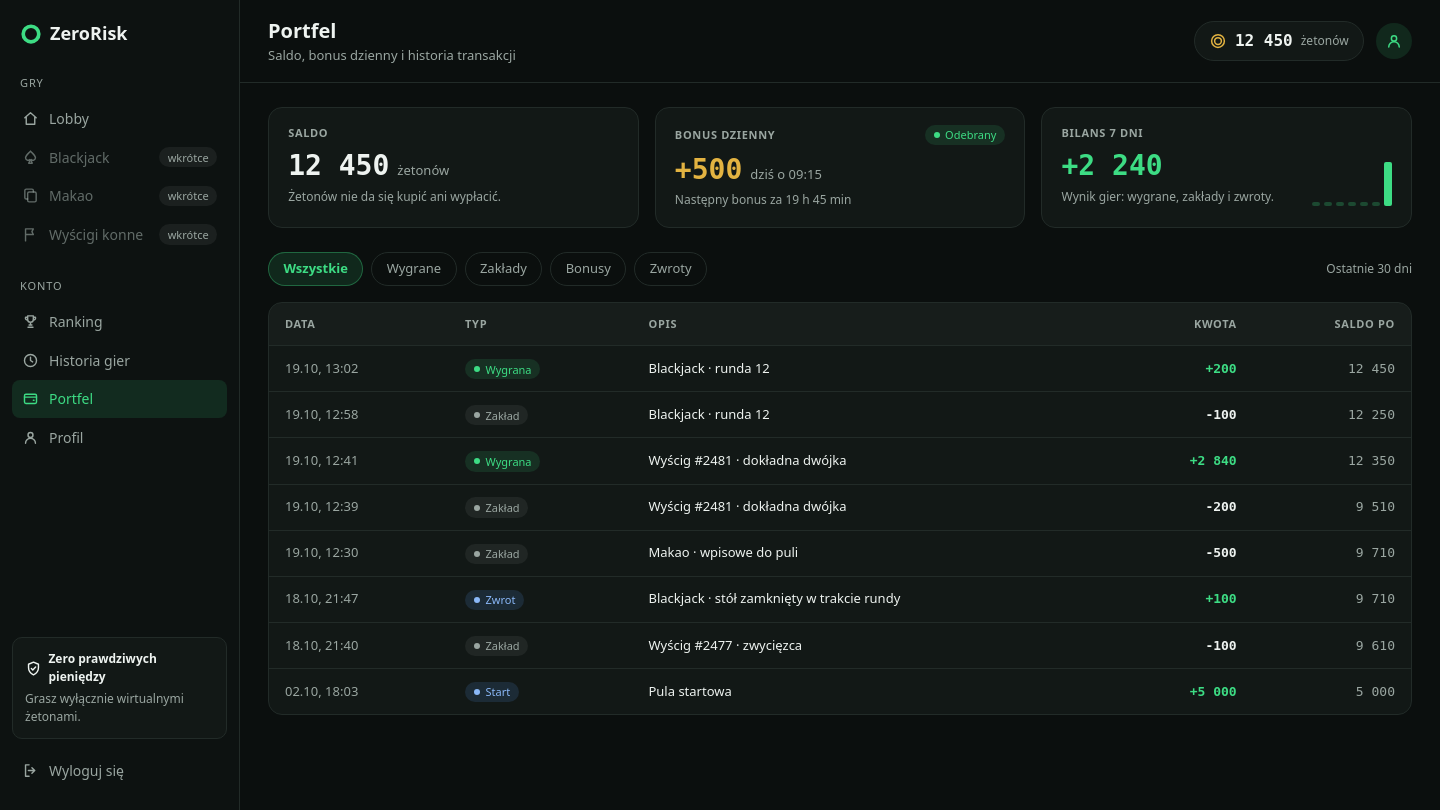
WalletPage › says when a filter has nothing to show
The image size is (1440, 810).
Expected: the text "Pula startowa" is shown, [632,668,1118,714]
Click the button "Bonusy" at (588, 269), box [550,252,626,286]
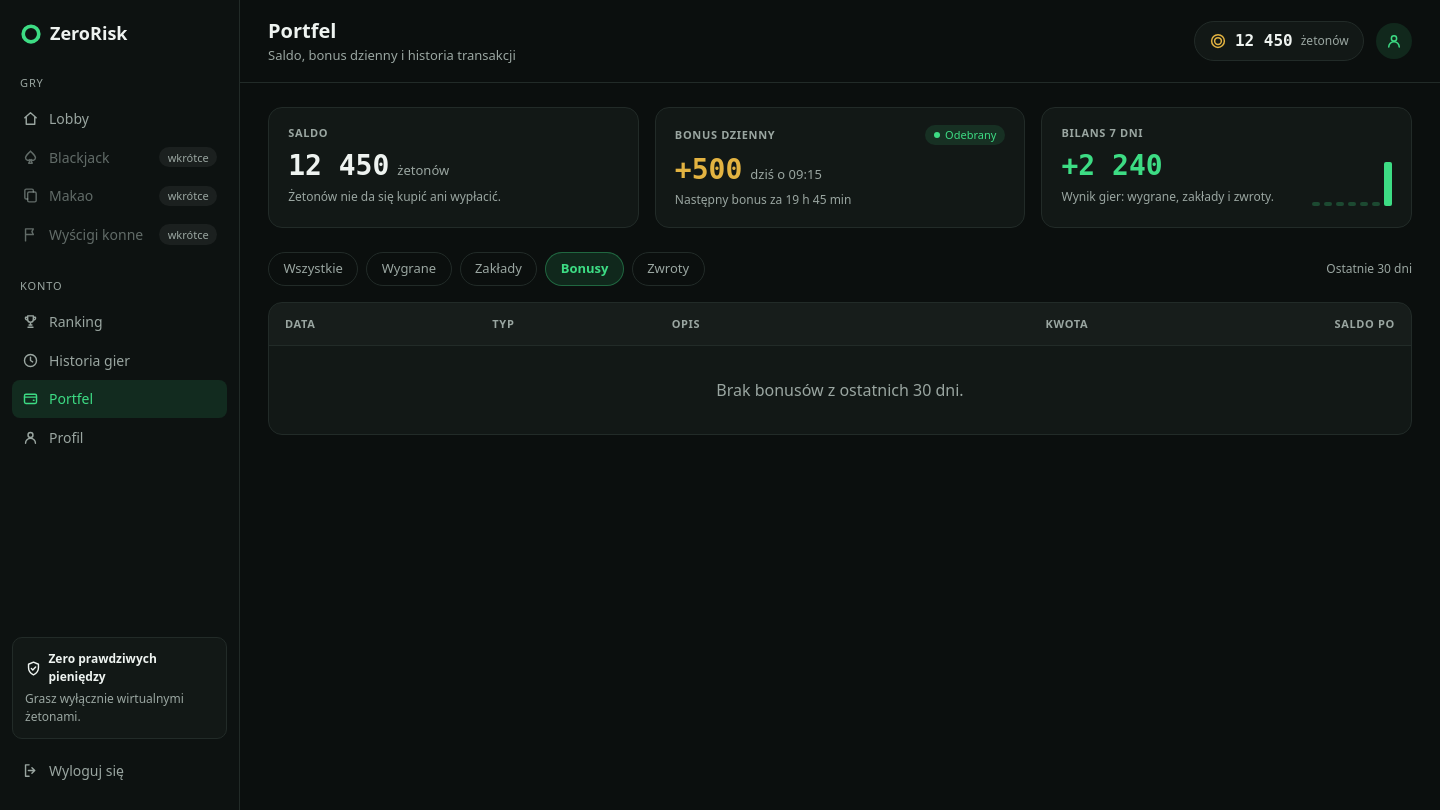
Now the text "Brak bonusów z ostatnich 30 dni." is shown, box [269,345,1411,434]
